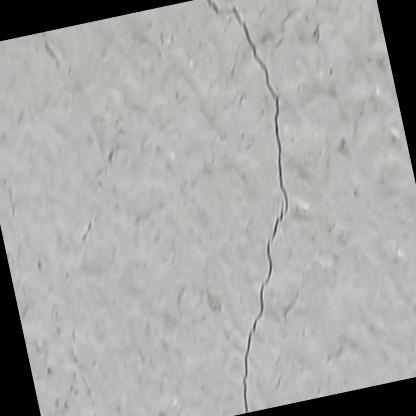crack: (204, 0, 288, 413)
